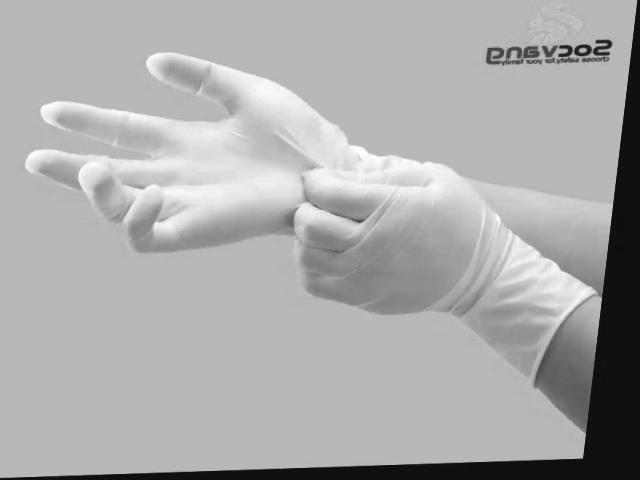gloved: (25, 50, 306, 254), (298, 162, 500, 320)
